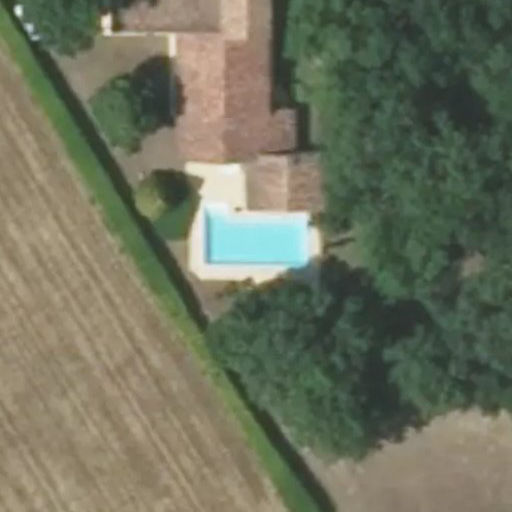pool: (202, 214, 309, 268)
